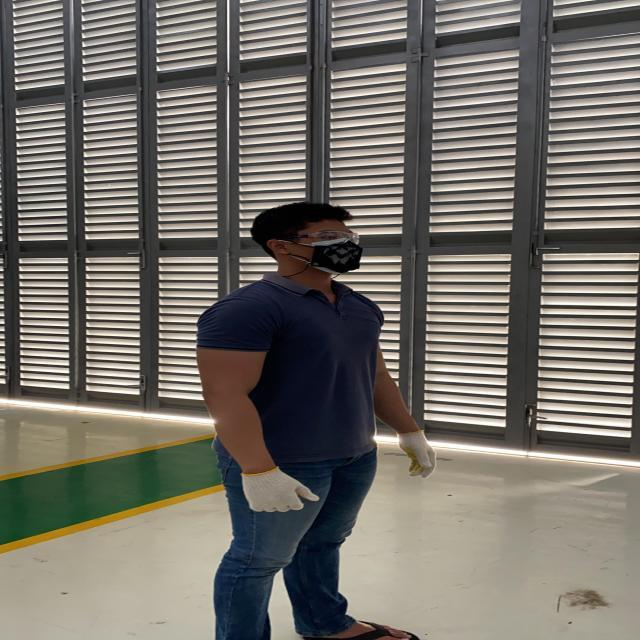glasses: (268, 226, 368, 246)
